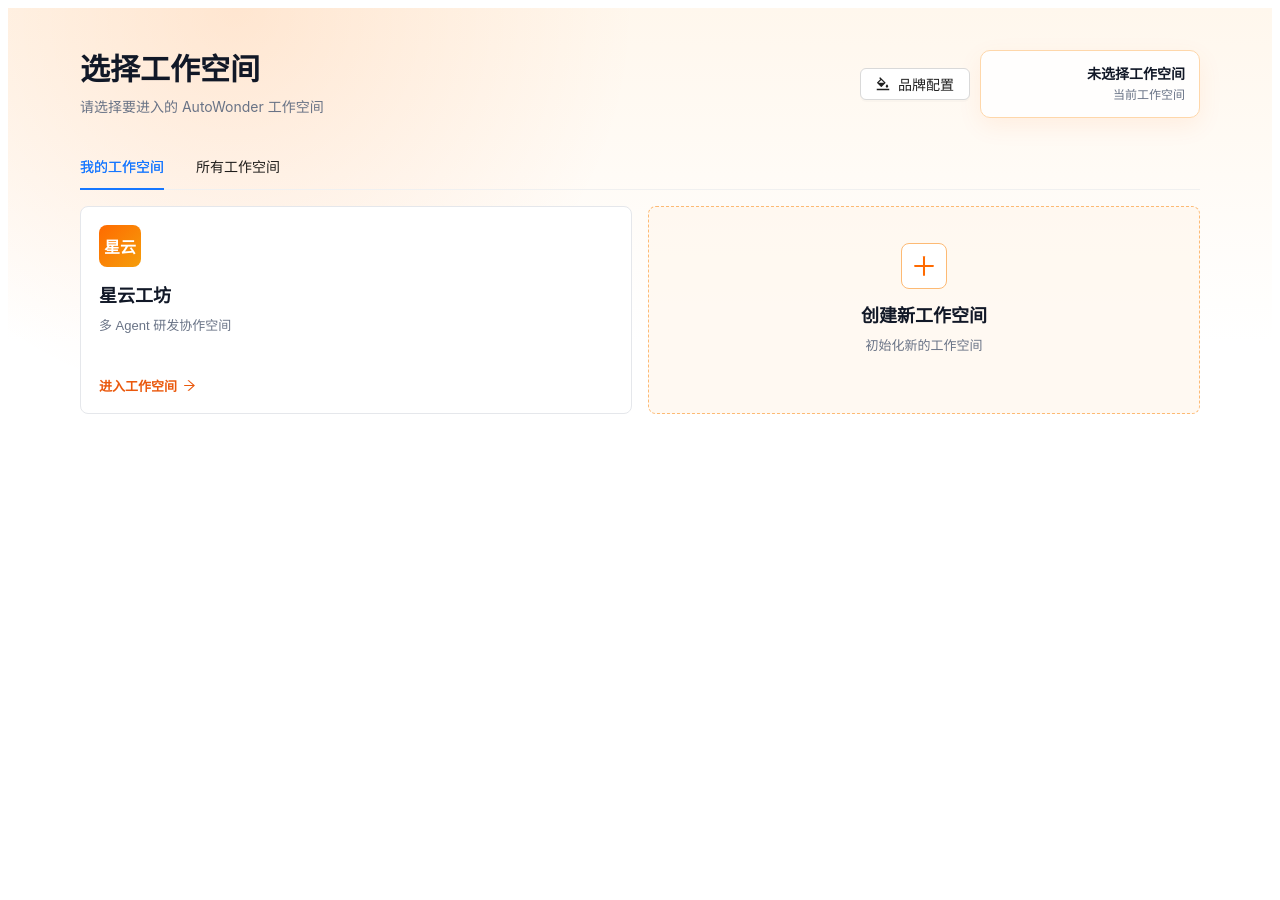
Scenario: WorkspaceSelectPage › opens the create-workspace form inside the mine pane
The image size is (1280, 900).
Click the button with test id "workspace-create-card" at (924, 310), box [648,206,1200,414]
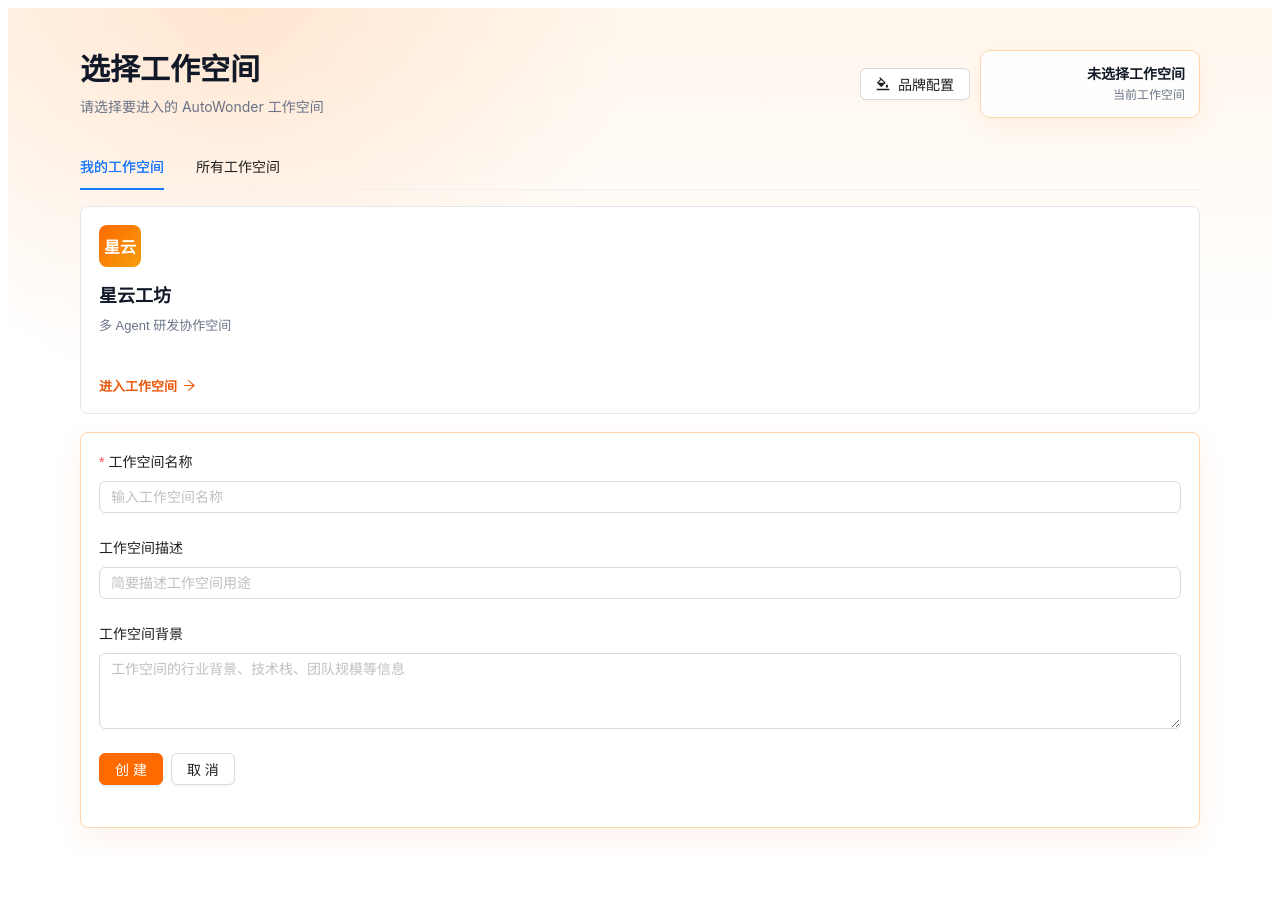
Now the text "工作空间名称" is shown, box [99,451,206,473]
Now the field with placeholder "输入工作空间名称" is shown, box [99,481,1181,513]
